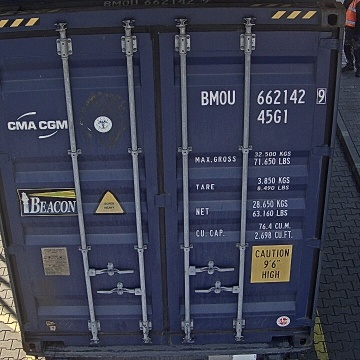serial_id: (200, 88, 326, 106)
